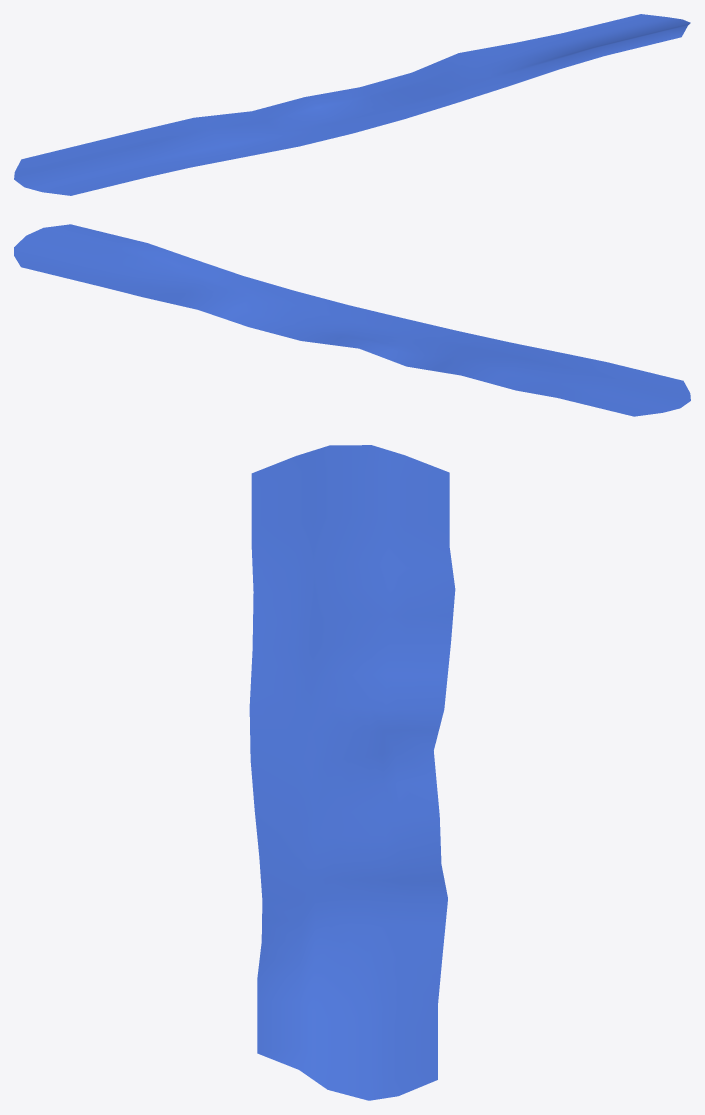
File: Water.fbx
The picture shows the model from 3 angles, top to bottom: view 1: azimuth 30°, elevation 25°; view 2: azimuth 150°, elevation 25°; view 3: azimuth 270°, elevation 25°; orthographic projection. The views are drawn at different scales.
Visible parts, largest first — view 1: Floor_water; view 2: Floor_water; view 3: Floor_water.
Part boxes in pixels (x1=…): Floor_water: x1=14, y1=14, x2=690, y2=195; Floor_water: x1=14, y1=224, x2=690, y2=416; Floor_water: x1=249, y1=445, x2=455, y2=1100.
Bounding box in the file's own units: 18145 × 416 × 2422.
